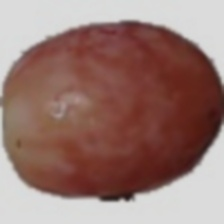grapes: (29, 22, 224, 194)
